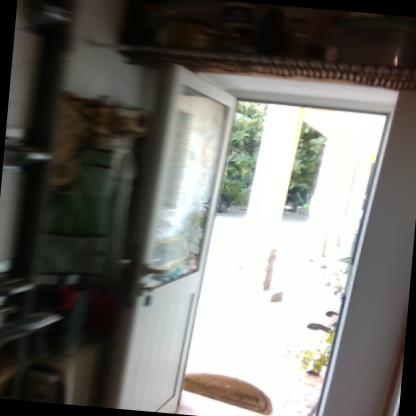open: (107, 54, 399, 415)
